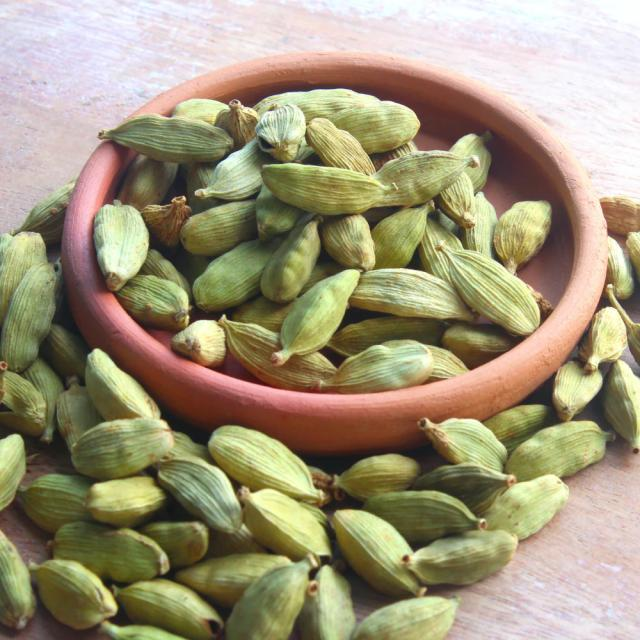Cardamom: (0, 166, 640, 640), (94, 88, 560, 400)
